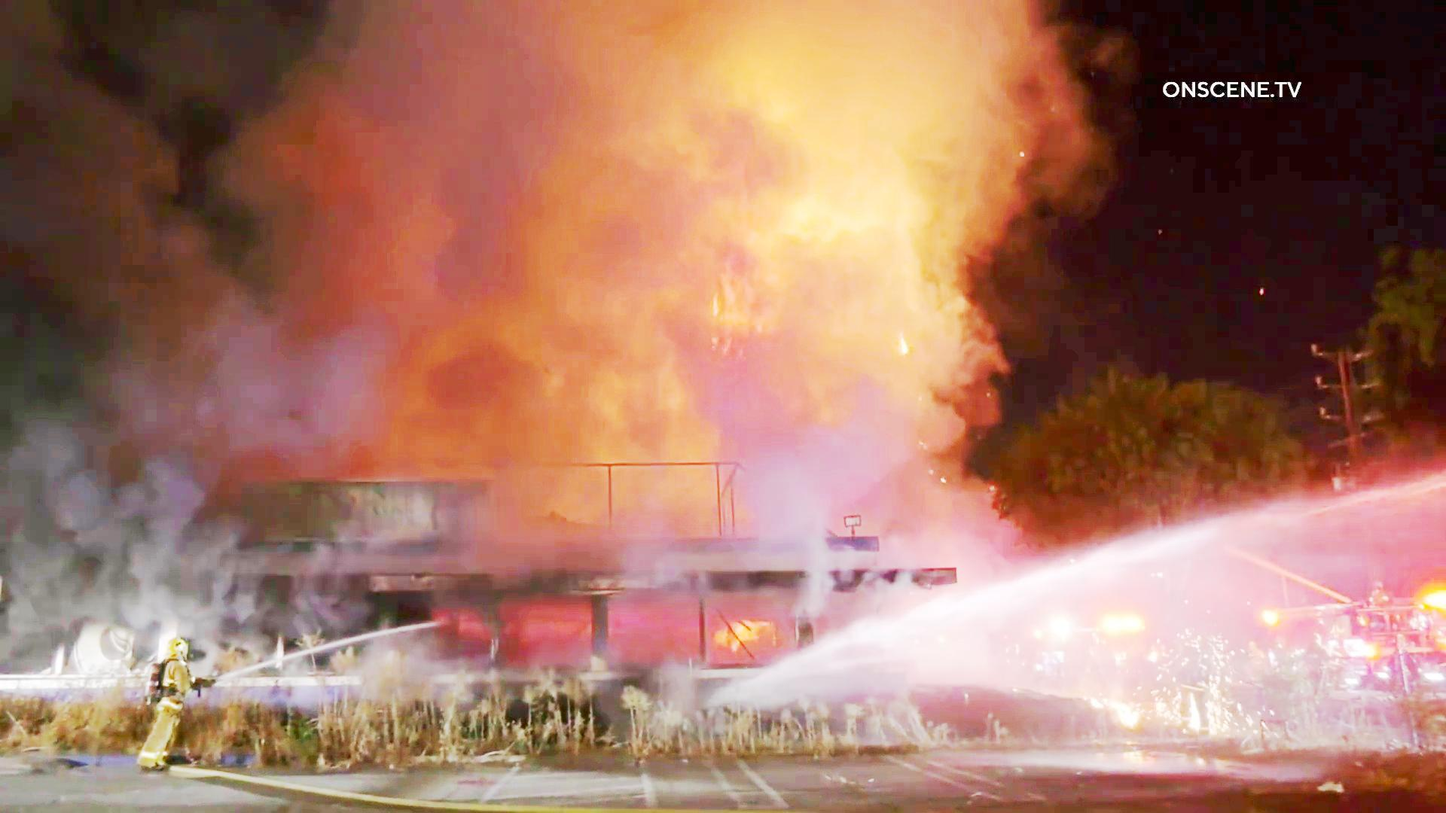smoke: (36, 8, 1010, 438)
